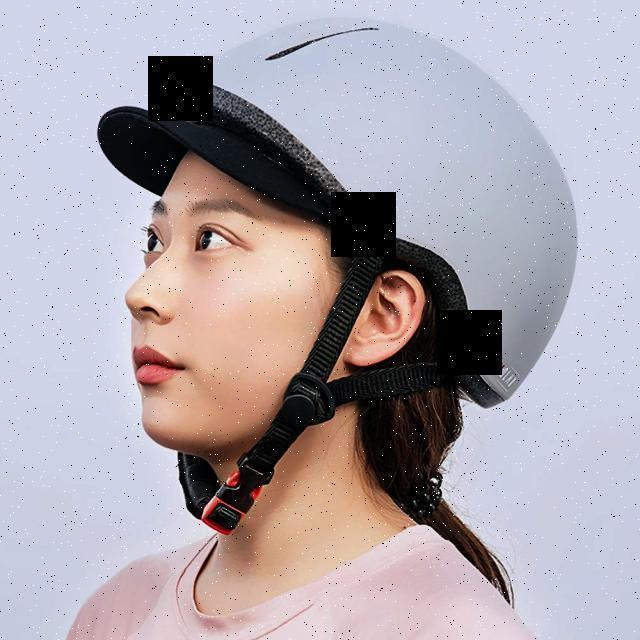helmet: (96, 20, 572, 538)
